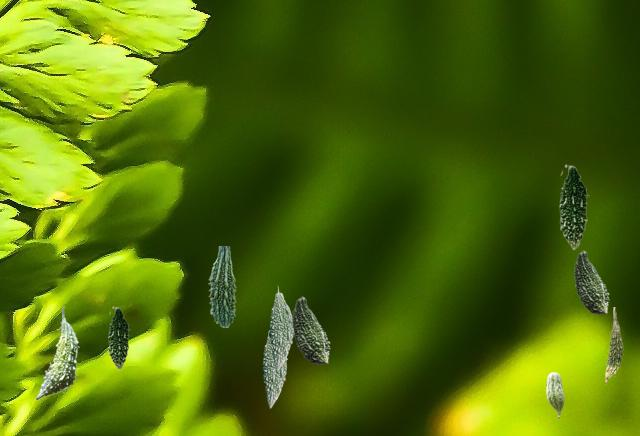ampalaya: (35, 306, 78, 399), (292, 296, 329, 363), (559, 164, 588, 249), (208, 246, 235, 326), (574, 250, 608, 313), (269, 285, 293, 370), (262, 330, 286, 407), (108, 306, 129, 369), (605, 307, 622, 383), (546, 372, 563, 417)
